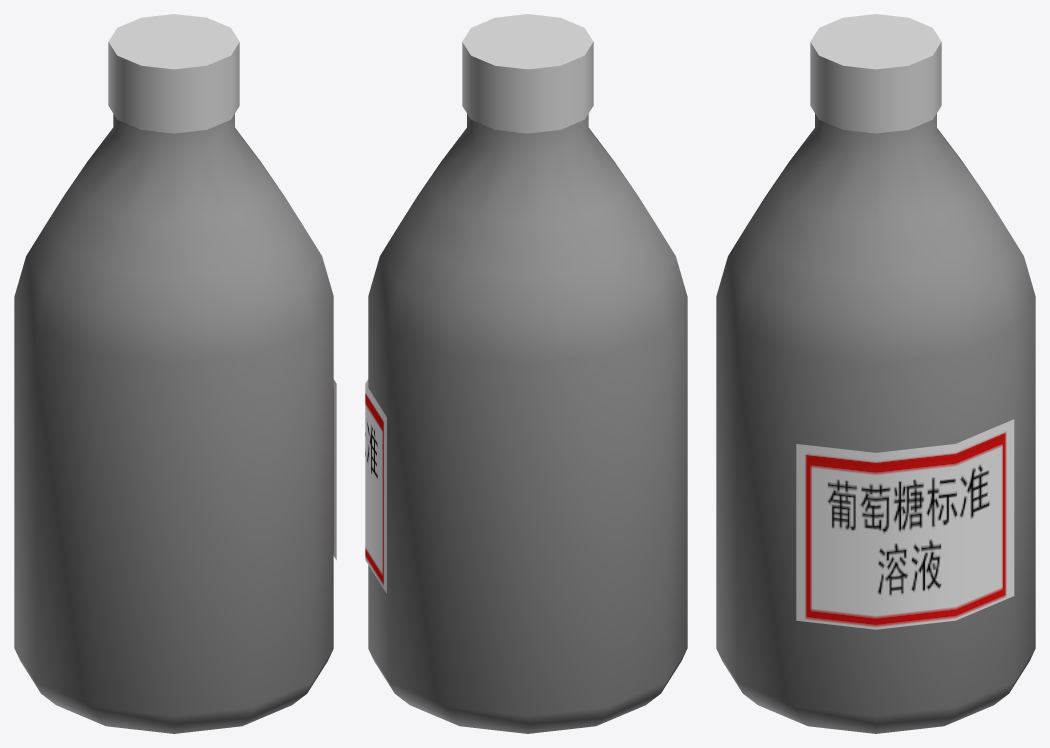
File: SM_葡萄糖标准溶液.FBX
3 views of the same model, side by side, from view 1: azimuth 30°, elevation 25°; view 2: azimuth 150°, elevation 25°; view 3: azimuth 270°, elevation 25° (orthographic).
Parts seen in each view (by area): view 1: SM_葡萄糖标准溶液_瓶体, SM_葡萄糖标准溶液_盖子; view 2: SM_葡萄糖标准溶液_瓶体, SM_葡萄糖标准溶液_盖子; view 3: SM_葡萄糖标准溶液_瓶体, SM_葡萄糖标准溶液_盖子.
Boxes of the visible parts, bbox=[...] form: SM_葡萄糖标准溶液_瓶体: bbox=[14, 114, 336, 733]; SM_葡萄糖标准溶液_盖子: bbox=[108, 14, 239, 133]; SM_葡萄糖标准溶液_瓶体: bbox=[365, 114, 687, 733]; SM_葡萄糖标准溶液_盖子: bbox=[462, 14, 593, 133]; SM_葡萄糖标准溶液_瓶体: bbox=[716, 113, 1035, 733]; SM_葡萄糖标准溶液_盖子: bbox=[810, 14, 941, 133].
Size of the model in its own units: 65.18 by 143 by 64.54.
